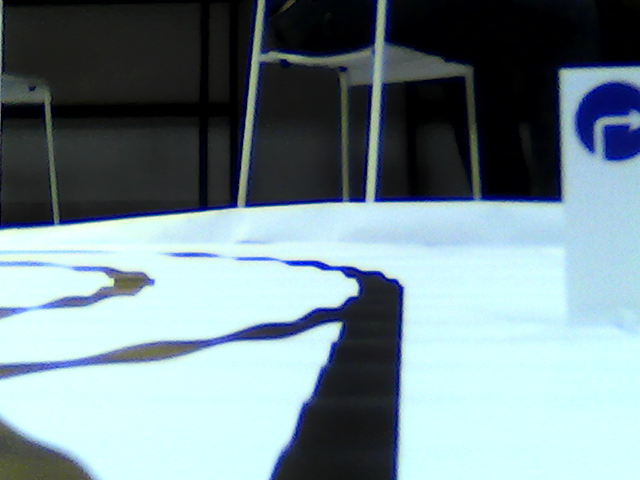Right: (578, 80, 640, 163)
